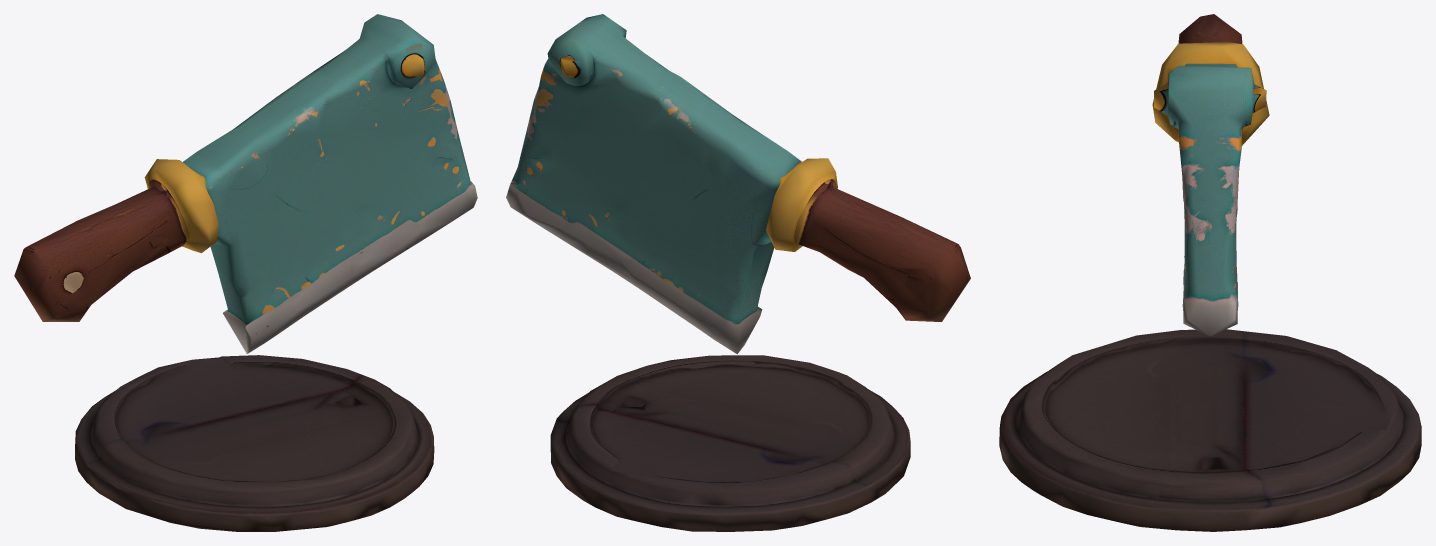
File: weapon_chopper_1500.glb
3 renders of one model, left to right at view 1: azimuth 30°, elevation 25°; view 2: azimuth 150°, elevation 25°; view 3: azimuth 270°, elevation 25°, orthographic. The views are drawn at different scales.
Parts seen in each view (by area): view 1: tripo_node_37e09bce-b6ad-4790-ae91-61f08a52f9ea; view 2: tripo_node_37e09bce-b6ad-4790-ae91-61f08a52f9ea; view 3: tripo_node_37e09bce-b6ad-4790-ae91-61f08a52f9ea.
Boxes of the visible parts, bbox=[...] form: tripo_node_37e09bce-b6ad-4790-ae91-61f08a52f9ea: bbox=[14, 14, 477, 531]; tripo_node_37e09bce-b6ad-4790-ae91-61f08a52f9ea: bbox=[506, 14, 970, 531]; tripo_node_37e09bce-b6ad-4790-ae91-61f08a52f9ea: bbox=[999, 14, 1421, 531].
Size of the model in its own units: 0.9801 by 0.8254 by 0.6936.
1 material, 1 textured.
